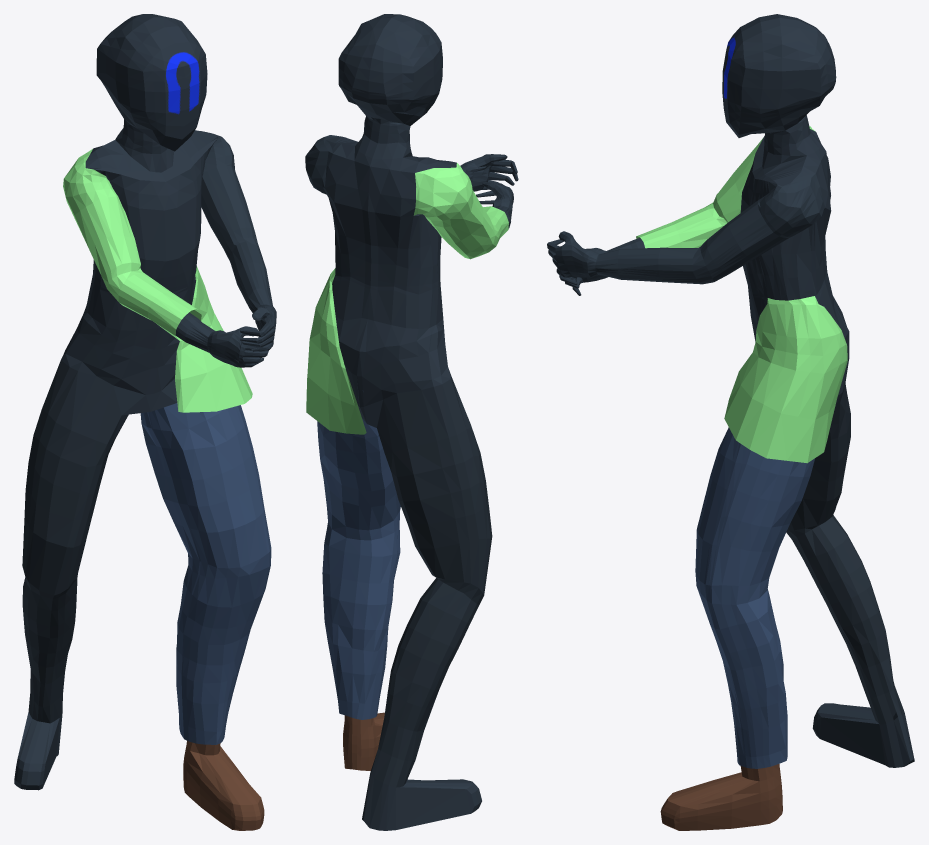
Rendered from Mar_WF_000010.obj.
The picture shows the model from 3 angles, left to right: view 1: azimuth 30°, elevation 25°; view 2: azimuth 150°, elevation 25°; view 3: azimuth 270°, elevation 25°; orthographic projection.
Parts seen in each view (by area): view 1: Cube.000_Cube.001; view 2: Cube.000_Cube.001; view 3: Cube.000_Cube.001.
Part boxes in pixels (left/top/right/bottom): Cube.000_Cube.001: left=14, top=14, right=276, bottom=830; Cube.000_Cube.001: left=305, top=14, right=518, bottom=830; Cube.000_Cube.001: left=547, top=14, right=914, bottom=830.
Size of the model in its own units: 1.06 by 3.88 by 1.65.
